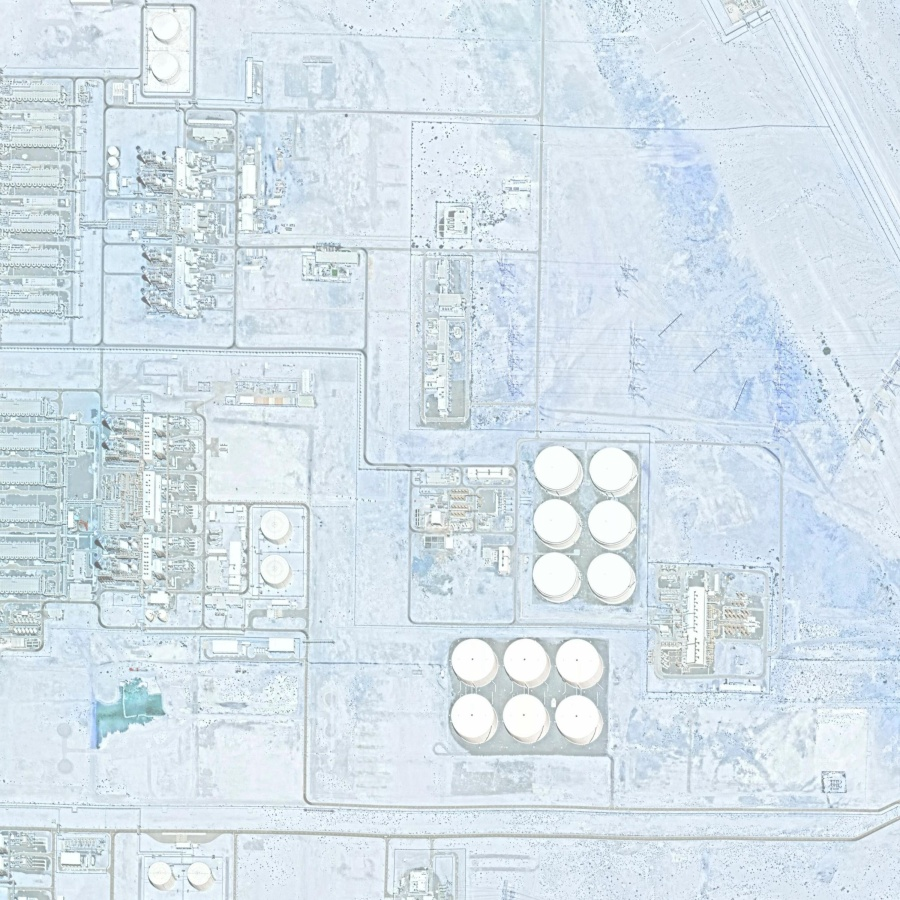PowerPlant: (388, 413, 768, 771)
